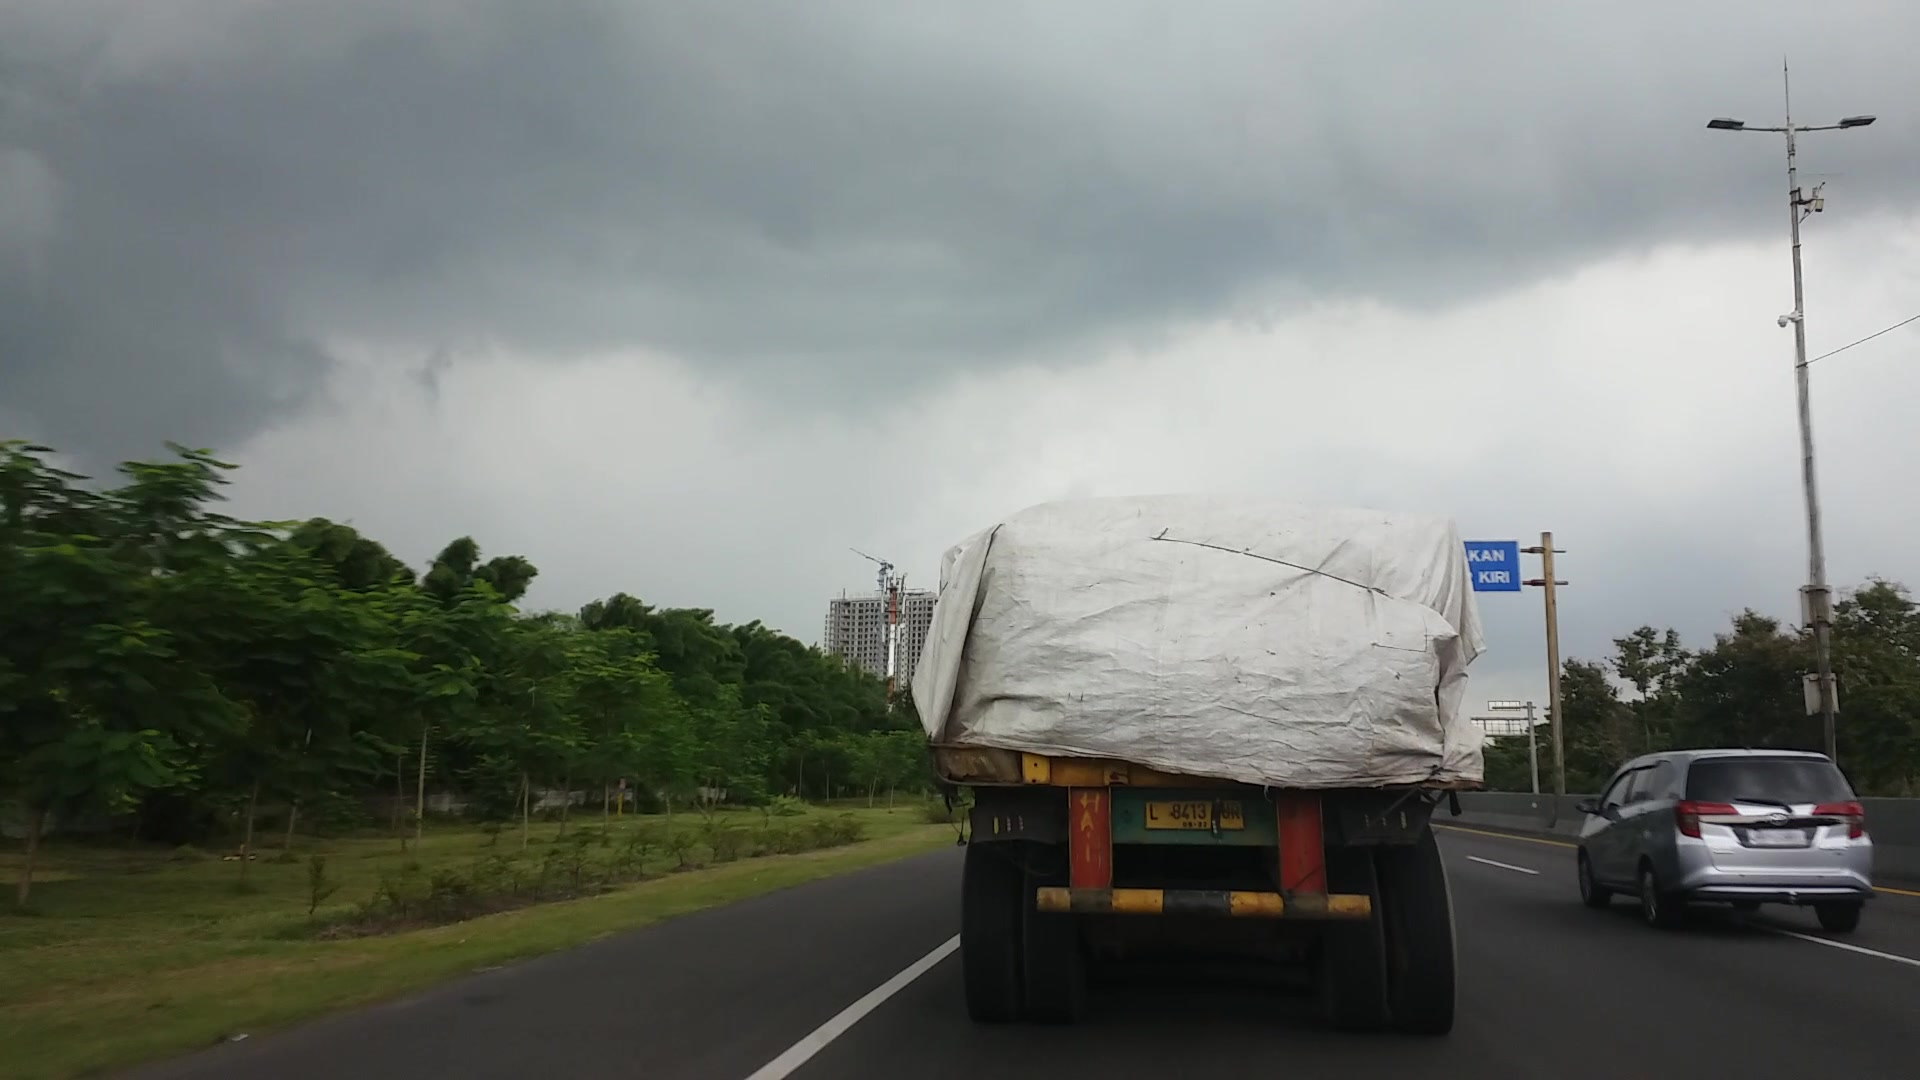plate_positive: (1145, 799, 1244, 829)
